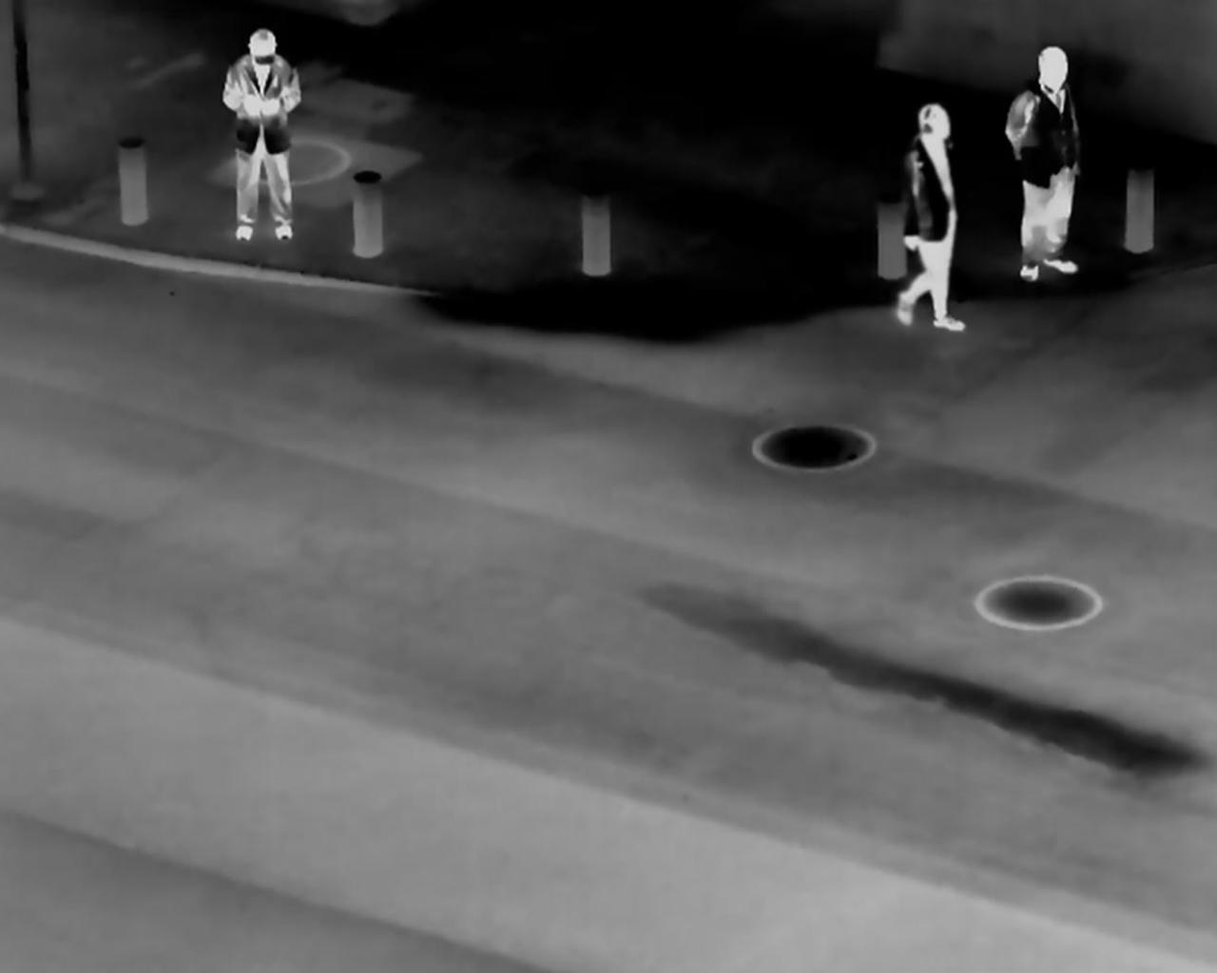person: (213, 26, 318, 259), (885, 97, 974, 341), (1005, 41, 1090, 279)
